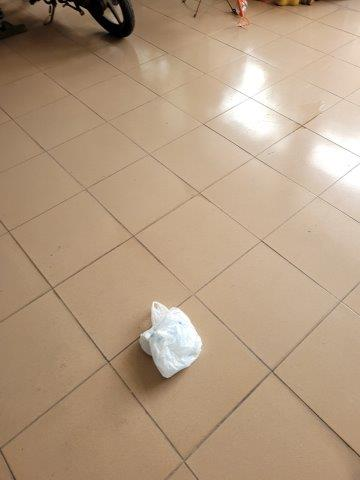plastik: (138, 303, 203, 380)
